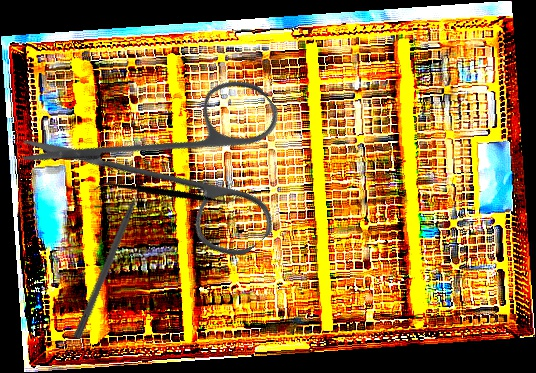Iris Scissors: (14, 2, 337, 325)
Pusher: (72, 177, 150, 341)
Spatula Surgical: (92, 133, 242, 255)
